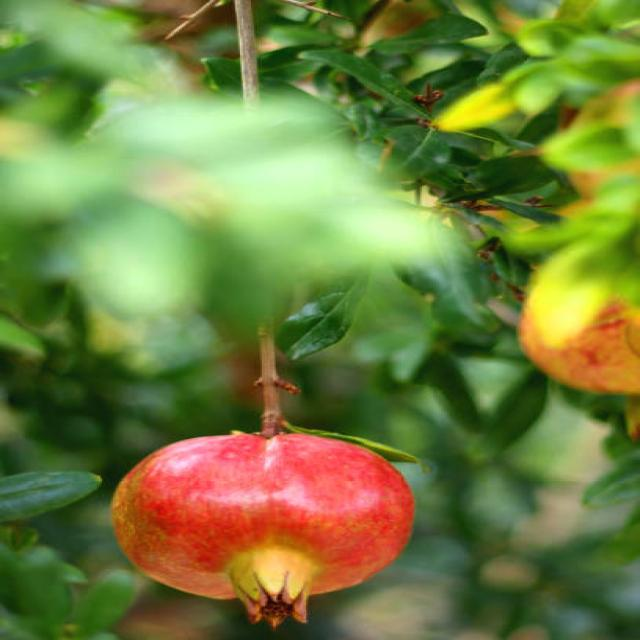Ripe: (110, 427, 418, 631)
